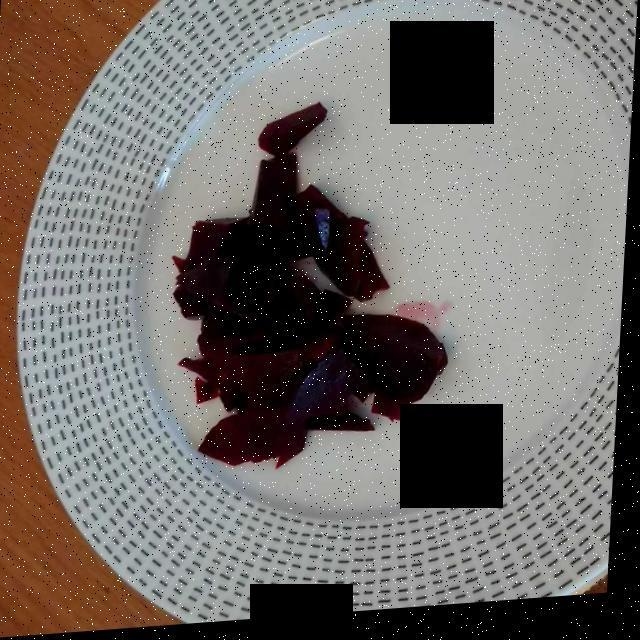beetroot: (182, 118, 449, 464)
